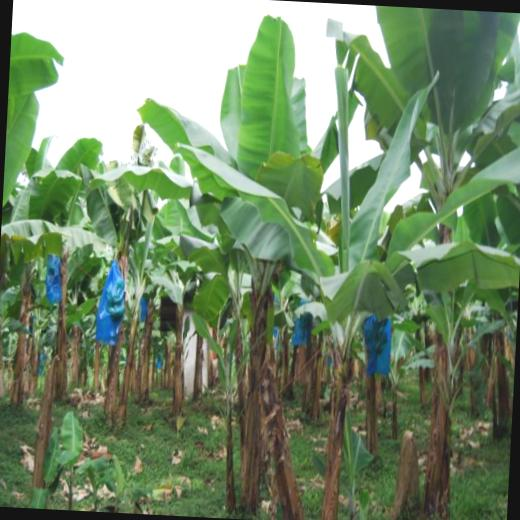Banana: (103, 275, 126, 324), (364, 316, 390, 356), (47, 255, 61, 292), (299, 310, 313, 331)
